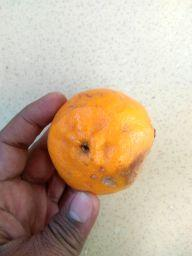Unripe: (47, 89, 158, 191)
